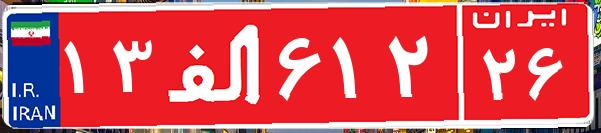1: (330, 28, 385, 110), (57, 26, 110, 107)
2: (385, 28, 445, 110), (475, 38, 525, 113)
3: (110, 28, 158, 105)
6: (273, 28, 330, 110), (525, 38, 570, 115)
الف: (158, 15, 273, 115)
